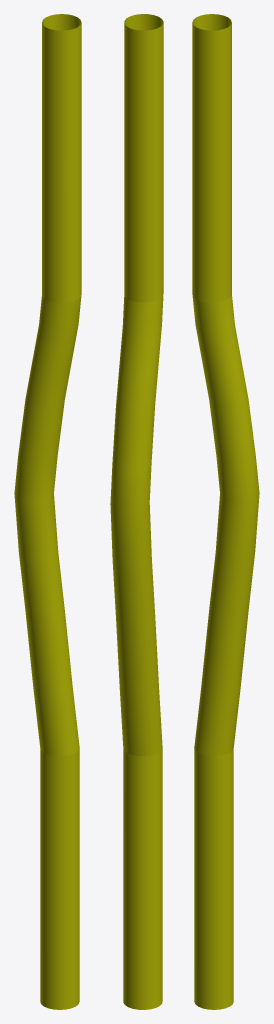
The model's file is Barrote 1.fbx.
The picture shows the model from 3 angles, left to right: view 1: azimuth 90°, elevation 25°; view 2: azimuth 150°, elevation 25°; view 3: azimuth 270°, elevation 25°; orthographic projection.
Visible parts, largest first — view 1: Barrote2; view 2: Barrote2; view 3: Barrote2.
Boxes of the visible parts, x1=… form: Barrote2: x1=14, y1=14, x2=81, y2=1009; Barrote2: x1=110, y1=14, x2=163, y2=1009; Barrote2: x1=192, y1=14, x2=259, y2=1009.
Bounding box in the file's own units: 0.2583 × 7.06 × 0.4388.
